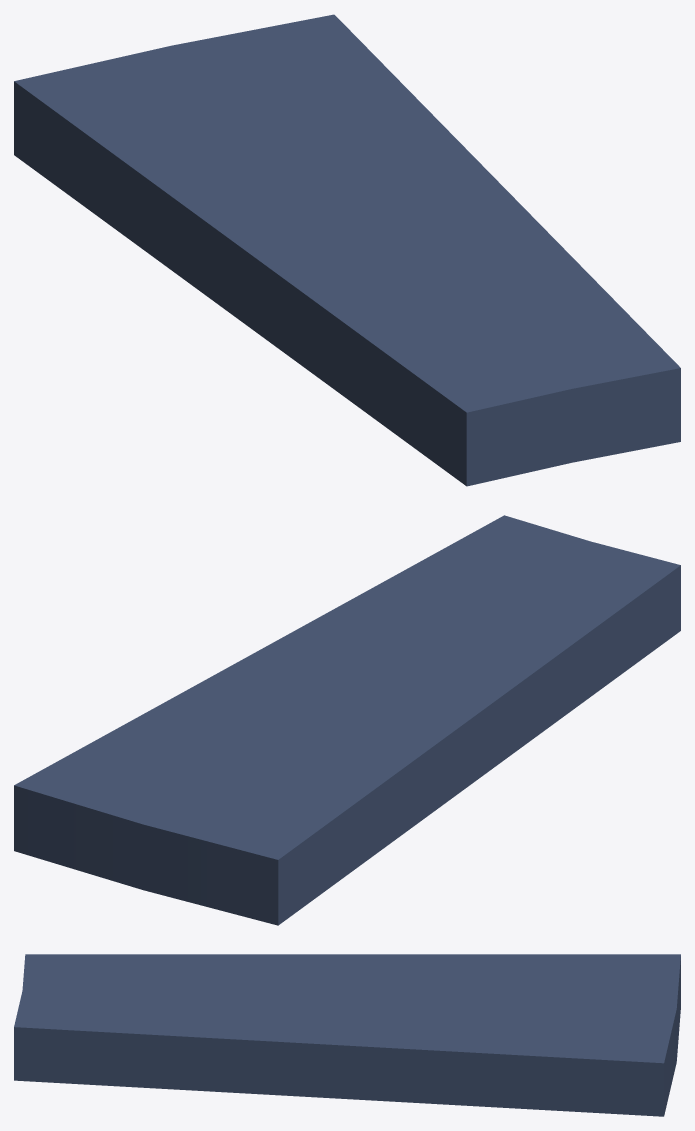
File: Ring_03_Wedge_01.fbx
3 views of the same model, one above another, from view 1: azimuth 30°, elevation 25°; view 2: azimuth 150°, elevation 25°; view 3: azimuth 270°, elevation 25° (orthographic). The views are drawn at different scales.
Parts seen in each view (by area): view 1: Ring_03; view 2: Ring_03; view 3: Ring_03.
Boxes of the visible parts, left/top/right/bottom form: Ring_03: left=14, top=14, right=680, bottom=486; Ring_03: left=14, top=515, right=680, bottom=925; Ring_03: left=14, top=954, right=680, bottom=1116.
Size of the model in its own units: 34.81 by 7.96 by 89.94.
